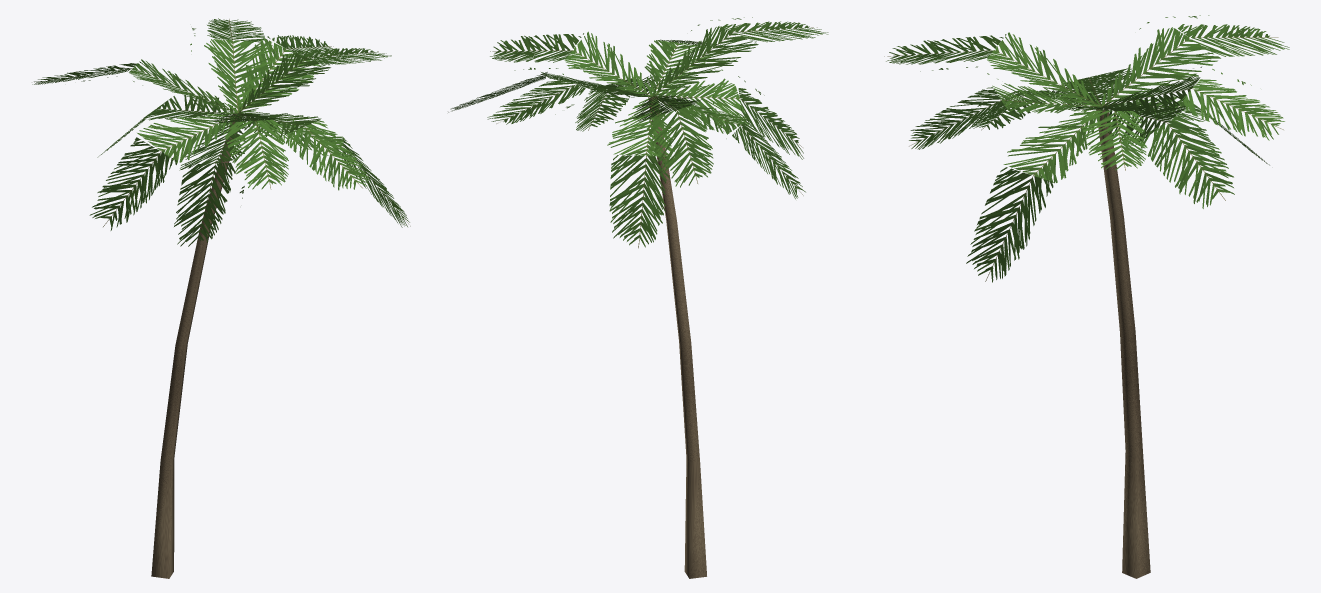
Rendered from mid.glb.
3 views of the same model, side by side, from view 1: azimuth 30°, elevation 25°; view 2: azimuth 150°, elevation 25°; view 3: azimuth 270°, elevation 25° (orthographic). The views are drawn at different scales.
Visible parts, largest first — view 1: palm_04; view 2: palm_04; view 3: palm_04.
Part boxes in pixels (<box>): palm_04: <box>32,18,410,578</box>; palm_04: <box>448,17,828,578</box>; palm_04: <box>884,15,1289,578</box>.
Bounding box in the file's own units: 10.17 × 15.05 × 11.07.
2 materials, 2 textured.
